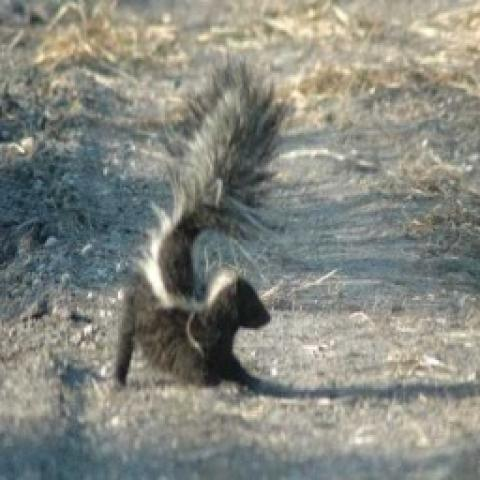small_animal: (113, 55, 299, 391)
